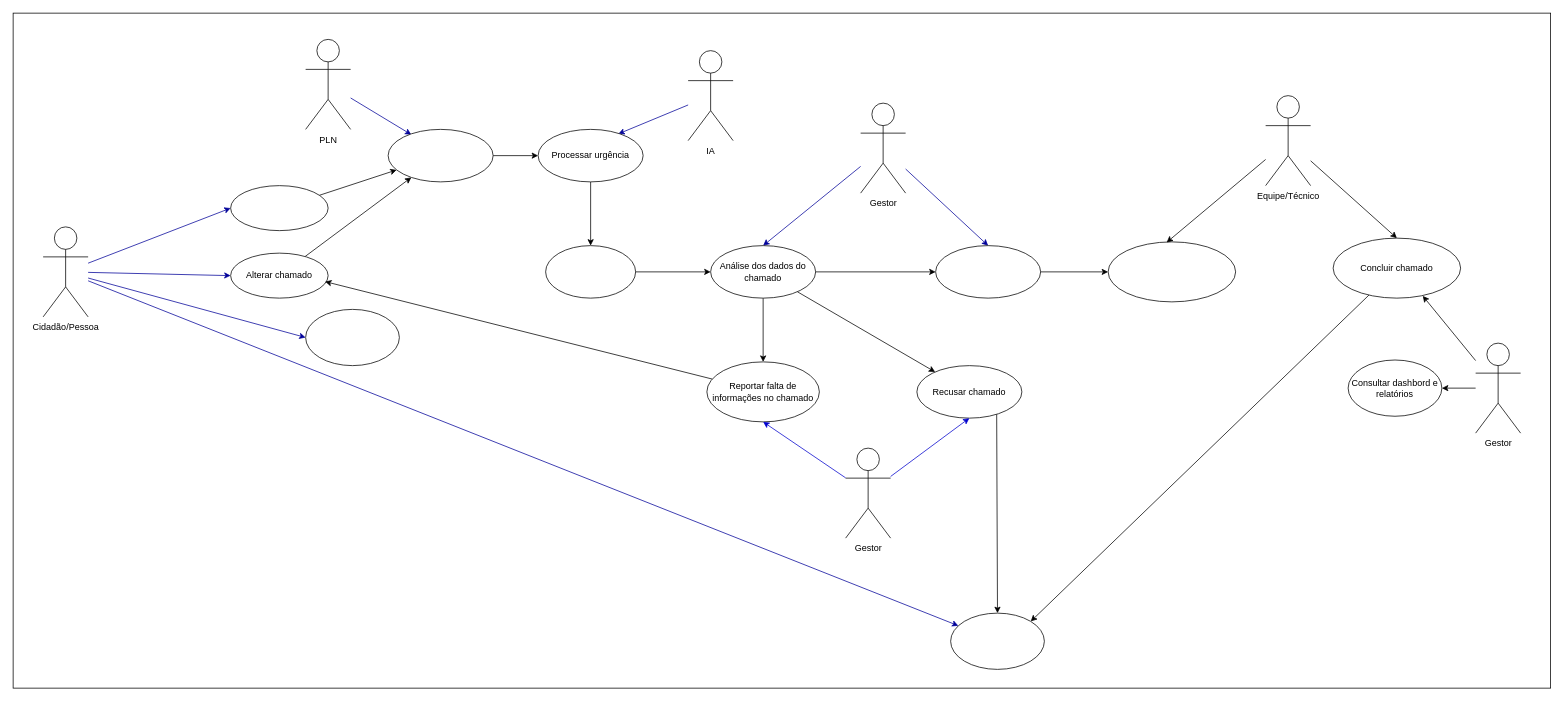
This 1564x701 diagram has some shape labels left out. Here are the shapes that lost their labels. From the top down, the centre of each, then its label:
At pixel 440 155: "Formatar informações basicas".
At pixel 279 208: "Registrar chamado".
At pixel 590 271: "Registrar alterações no chamado".
At pixel 988 271: "Atribuição do chamdo a uma equipe".
At pixel 1171 271: "Execução das atividades necessárias no chamado".
At pixel 352 337: "Acompanhar andamento do chamado".
At pixel 997 640: "Verificar retorno do chamado".
